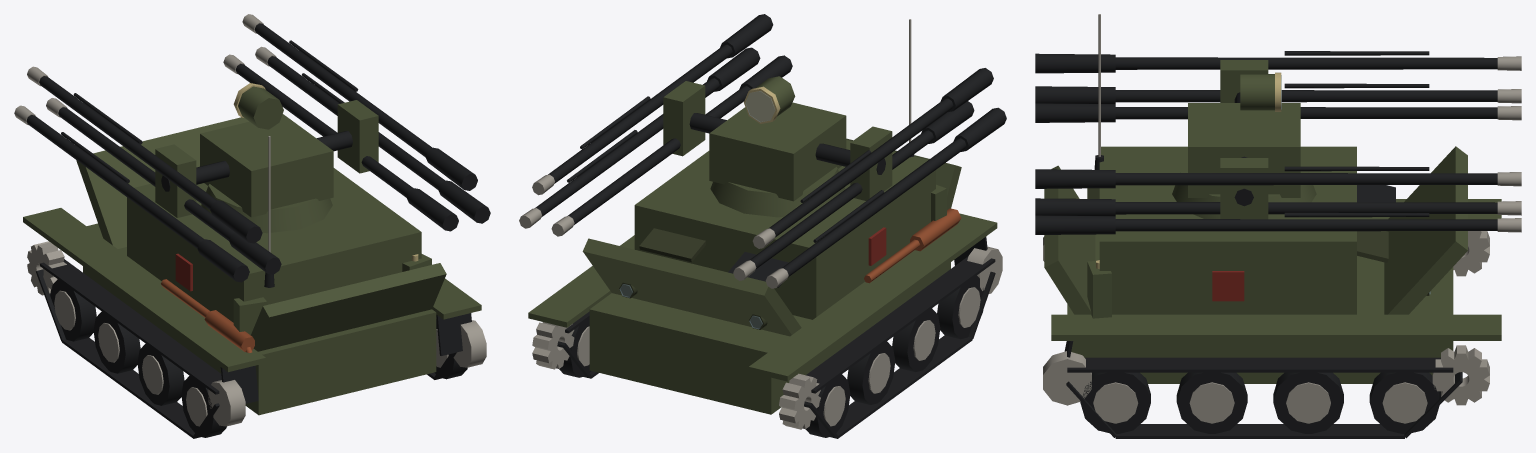
The model's file is m50-ontos.glb.
The picture shows the model from 3 angles, left to right: view 1: azimuth 30°, elevation 25°; view 2: azimuth 150°, elevation 25°; view 3: azimuth 270°, elevation 25°; orthographic projection. The views are drawn at different scales.
Visible parts, largest first — view 1: Mesh_Cabin, Mesh_LowerHull, Mesh_TurretBodyMesh, Mesh_FenderR, Mesh_RearPlate, Mesh_Glacis, Mesh_TrackTopR, Mesh_Rifle_R_Top_Barrel, Mesh_Rifle_R_LowOut_Barrel, Mesh_Rifle1_Barrel, Mesh_BracketL, Mesh_Rifle_R_LowIn_Barrel (+31 smaller); view 2: Mesh_Cabin, Mesh_LowerHull, Mesh_TurretBodyMesh, Mesh_Glacis, Mesh_FenderR, Mesh_TrackTopR, Mesh_Rifle_R_LowOut_Barrel, Mesh_Rifle_R_Top_Barrel, Mesh_FenderL, Mesh_Rifle1_Barrel, Mesh_TurretBaseMesh, Mesh_BracketL (+34 smaller); view 3: Mesh_Cabin, Mesh_FenderL, Mesh_LowerHull, Mesh_TurretBodyMesh, Mesh_Glacis, Mesh_TrackTopL, Mesh_Rifle_L_LowOut_Barrel, Mesh_Rifle1_Barrel, Mesh_Rifle_R_Top_Barrel, Mesh_Rifle_L_LowIn_Barrel, Mesh_Rifle_R_LowOut_Barrel, Mesh_RearPlate (+32 smaller).
Boxes of the visible parts, x1=… form: Mesh_Cabin: x1=127, y1=168, x2=421, y2=322; Mesh_LowerHull: x1=83, y1=223, x2=436, y2=415; Mesh_TurretBodyMesh: x1=200, y1=114, x2=333, y2=217; Mesh_FenderR: x1=23, y1=208, x2=265, y2=372; Mesh_RearPlate: x1=250, y1=263, x2=446, y2=351; Mesh_Glacis: x1=76, y1=117, x2=248, y2=307; Mesh_TrackTopR: x1=40, y1=259, x2=221, y2=394; Mesh_Rifle_R_Top_Barrel: x1=39, y1=76, x2=258, y2=240; Mesh_Rifle_R_LowOut_Barrel: x1=26, y1=115, x2=246, y2=279; Mesh_Rifle1_Barrel: x1=254, y1=23, x2=474, y2=187; Mesh_BracketL: x1=337, y1=100, x2=378, y2=173; Mesh_Rifle_R_LowIn_Barrel: x1=58, y1=107, x2=278, y2=271; Mesh_Cabin: x1=634, y1=140, x2=935, y2=319; Mesh_LowerHull: x1=589, y1=262, x2=950, y2=414; Mesh_TurretBodyMesh: x1=709, y1=102, x2=846, y2=201; Mesh_Glacis: x1=582, y1=238, x2=801, y2=336; Mesh_FenderR: x1=748, y1=213, x2=997, y2=381; Mesh_TrackTopR: x1=806, y1=256, x2=995, y2=393; Mesh_Rifle_R_LowOut_Barrel: x1=781, y1=138, x2=966, y2=277; Mesh_Rifle_R_Top_Barrel: x1=768, y1=98, x2=953, y2=237; Mesh_FenderL: x1=528, y1=235, x2=634, y2=327; Mesh_Rifle1_Barrel: x1=548, y1=44, x2=732, y2=183; Mesh_TurretBaseMesh: x1=710, y1=167, x2=844, y2=217; Mesh_BracketL: x1=663, y1=81, x2=705, y2=156; Mesh_Cabin: x1=1099, y1=146, x2=1356, y2=314; Mesh_FenderL: x1=1051, y1=314, x2=1501, y2=340; Mesh_LowerHull: x1=1067, y1=234, x2=1453, y2=383; Mesh_TurretBodyMesh: x1=1188, y1=103, x2=1300, y2=197; Mesh_Glacis: x1=1354, y1=146, x2=1467, y2=373; Mesh_TrackTopL: x1=1067, y1=357, x2=1453, y2=372; Mesh_Rifle_L_LowOut_Barrel: x1=1115, y1=219, x2=1497, y2=231; Mesh_Rifle1_Barrel: x1=1115, y1=173, x2=1497, y2=185; Mesh_Rifle_R_Top_Barrel: x1=1115, y1=57, x2=1497, y2=69; Mesh_Rifle_L_LowIn_Barrel: x1=1115, y1=202, x2=1497, y2=214; Mesh_Rifle_R_LowOut_Barrel: x1=1115, y1=90, x2=1497, y2=102; Mesh_RearPlate: x1=1044, y1=165, x2=1095, y2=314.
Bounding box in the file's own units: 2.08 × 2.2 × 3.03.
2 materials, 2 textured.
